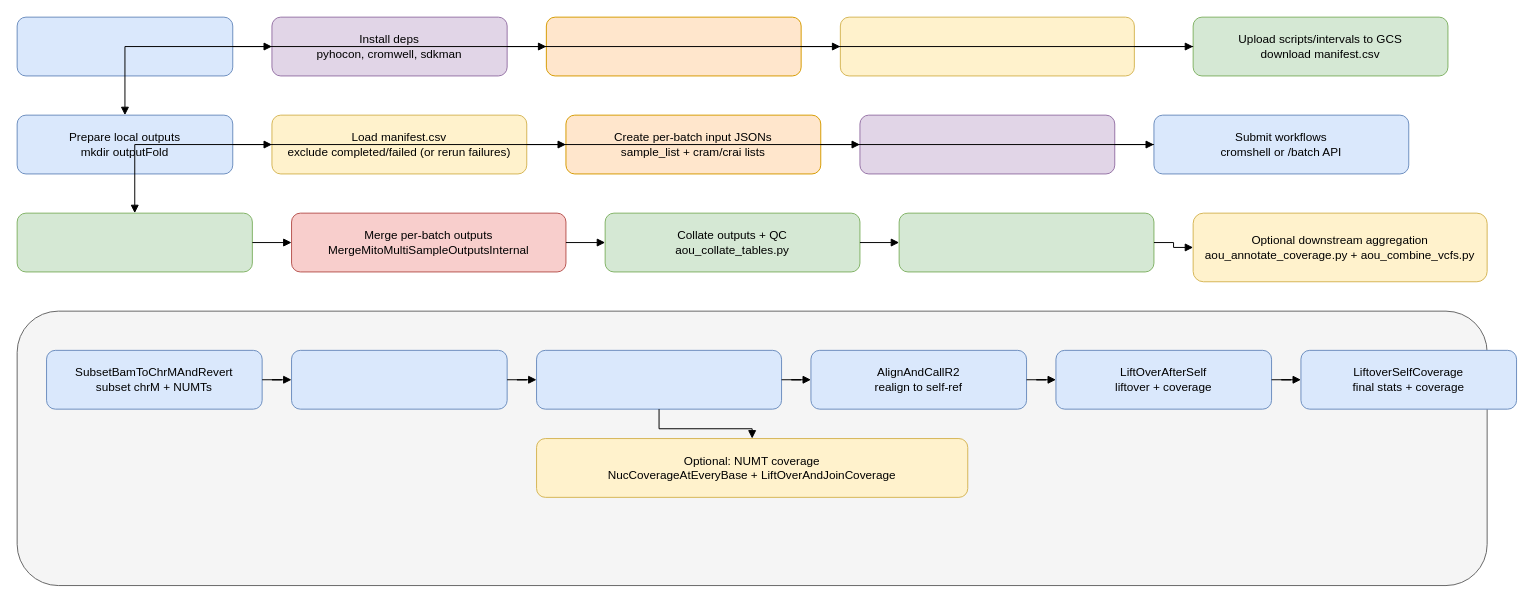
This 1534x603 diagram has some shape labels left out. The shapes that lost their labels are listed below. From the top down, each one's centre as x and y in pixels, then its label:
At point (124, 46): "Start / Set AoU params".
At point (673, 46): "Download WDL + scripts + intervals from mtSwirl repo".
At point (986, 46): "Rewrite input_allofus.json set WORKSPACE_BUCKET, REQPAYS, interval path".
At point (987, 144): "Start Cromwell server local HSQLDB + custom config".
At point (134, 242): "Monitor workflows cromwell_run_monitor.py".
At point (1026, 242): "Update sample DB aou_update_sample_database.py".
At point (399, 379): "AlignAndCallR1 initial mt + nuc calls".
At point (659, 379): "ProduceSelfReferenceFiles self-reference, shift, chains".
